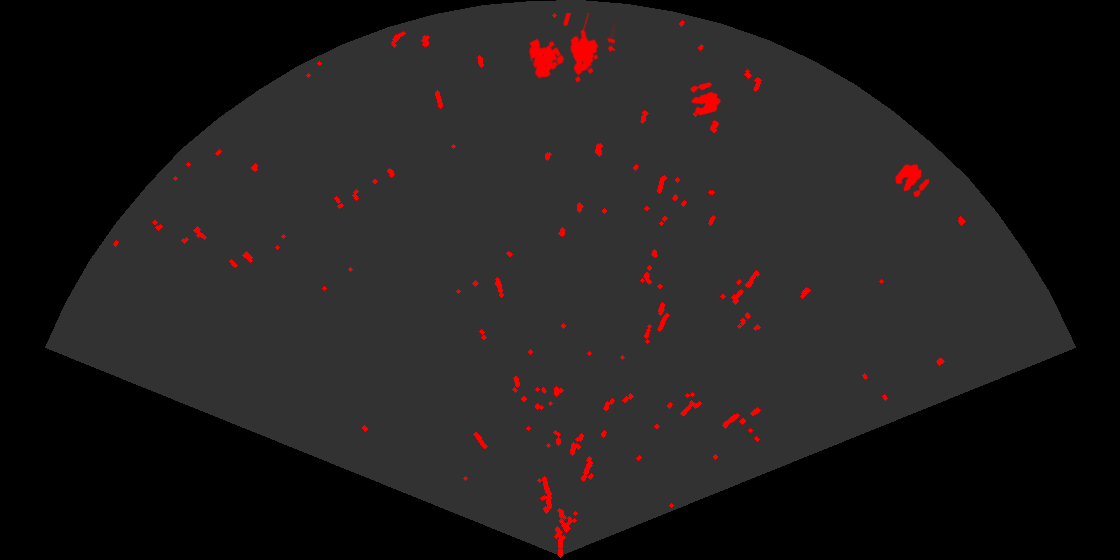ball: (894, 163, 931, 199), (688, 81, 722, 117)
cage: (527, 13, 615, 84)
